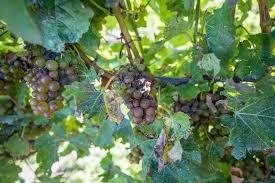Grape Rotten: (24, 54, 78, 119), (115, 70, 158, 125)
